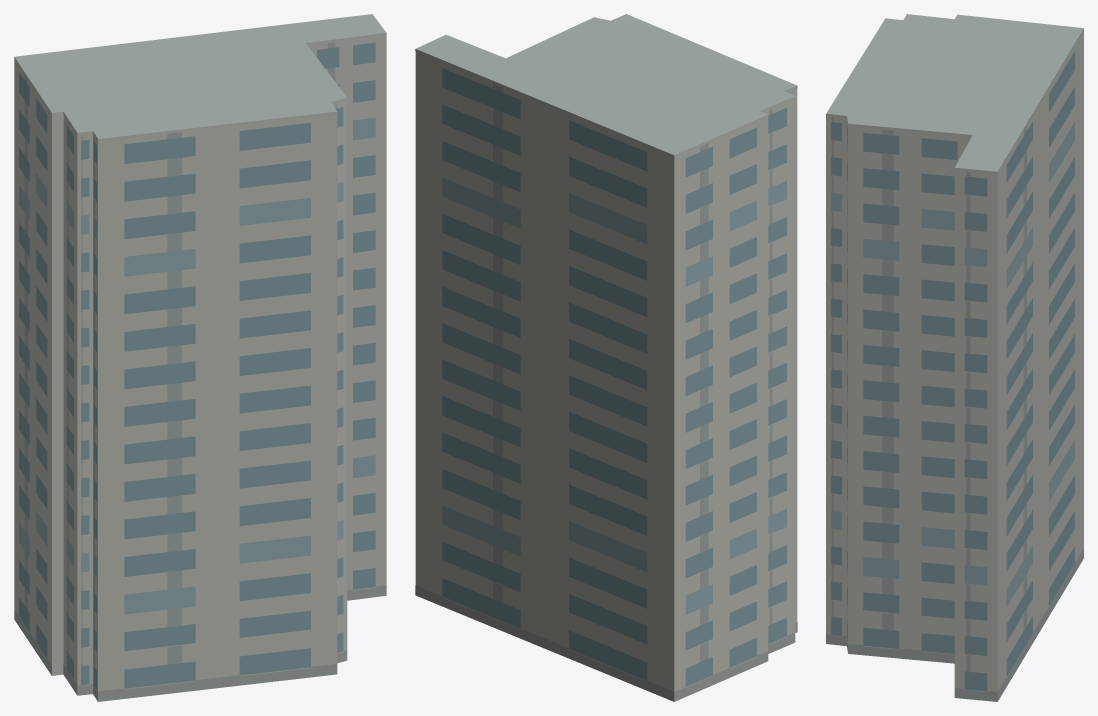
File: residential-e2279502-8fc9-4110-802b-845a78e3a37e.glb
The picture shows the model from 3 angles, left to right: view 1: azimuth 30°, elevation 25°; view 2: azimuth 150°, elevation 25°; view 3: azimuth 270°, elevation 25°; orthographic projection. The views are drawn at different scales.
Parts seen in each view (by area): view 1: residential-e2279502-8fc9-4110-802b-845a78e3a37e.tmp; view 2: residential-e2279502-8fc9-4110-802b-845a78e3a37e.tmp; view 3: residential-e2279502-8fc9-4110-802b-845a78e3a37e.tmp.
Part boxes in pixels (left/top/right/bottom): residential-e2279502-8fc9-4110-802b-845a78e3a37e.tmp: left=14, top=14, right=386, bottom=701; residential-e2279502-8fc9-4110-802b-845a78e3a37e.tmp: left=415, top=14, right=797, bottom=701; residential-e2279502-8fc9-4110-802b-845a78e3a37e.tmp: left=826, top=14, right=1083, bottom=701.
Bounding box in the file's own units: 31.9 × 50 × 22.04.
